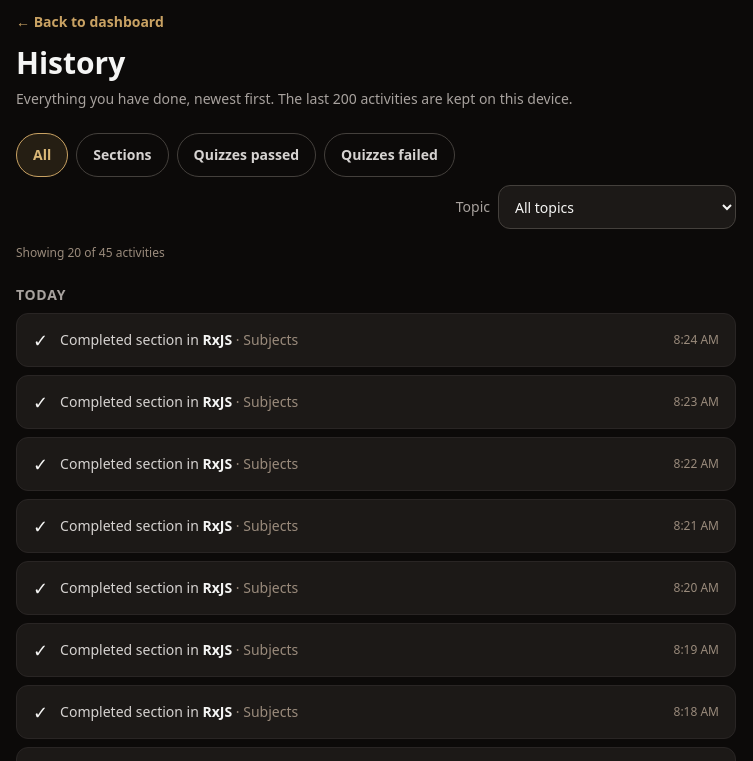
HistoryComponent › shows a helpful message when the filters match nothing
The image size is (753, 761).
Click the button "Quizzes passed": (246, 155) top-left (177, 133), bottom-right (316, 177)
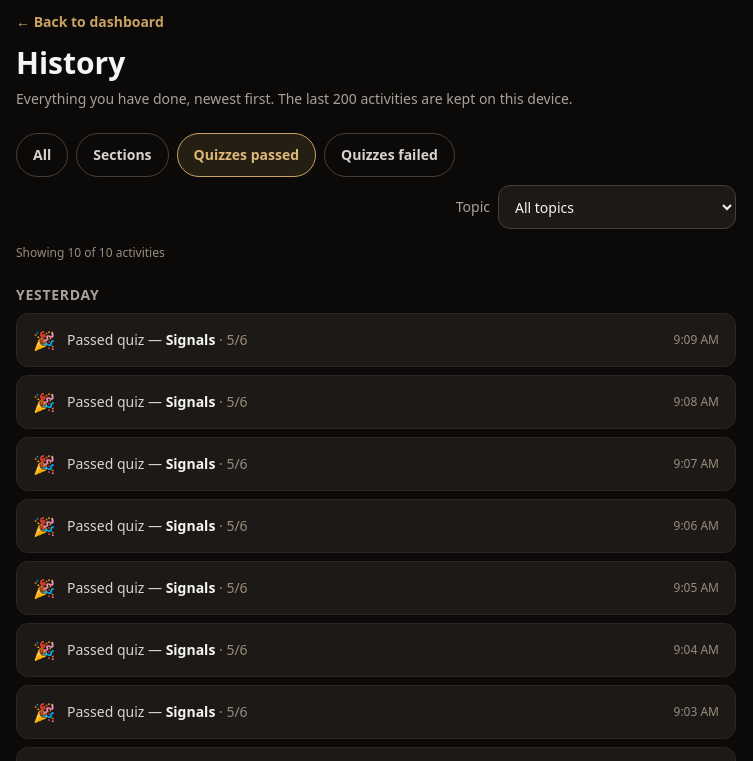
Select "Data Binding" in the dropdown with test id "topic-filter": (617, 207) top-left (498, 185), bottom-right (736, 229)
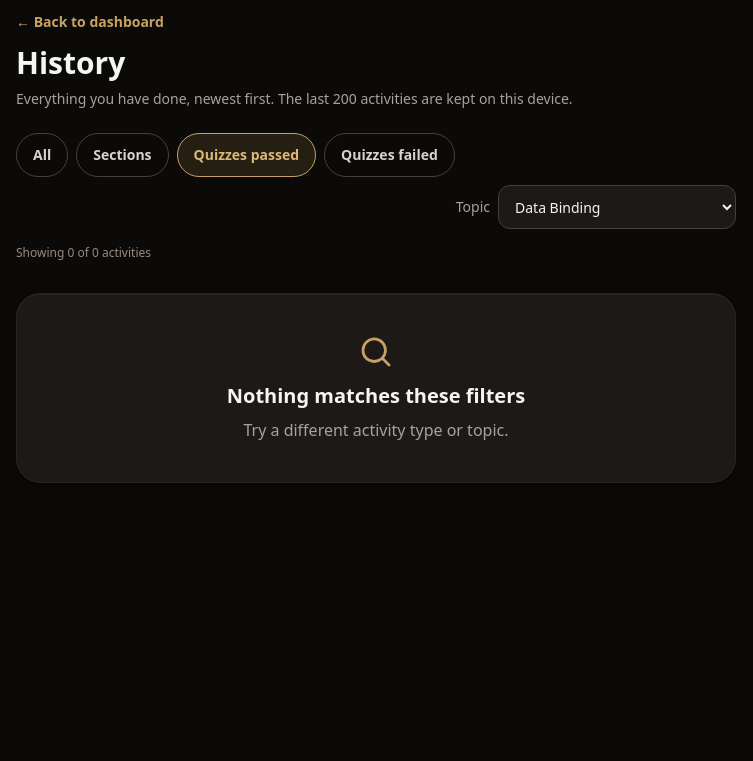
expect no links with test id "history-entry" are shown: met
expect the text "Nothing matches these filters" is shown: met, box top-left (227, 382), bottom-right (525, 409)
